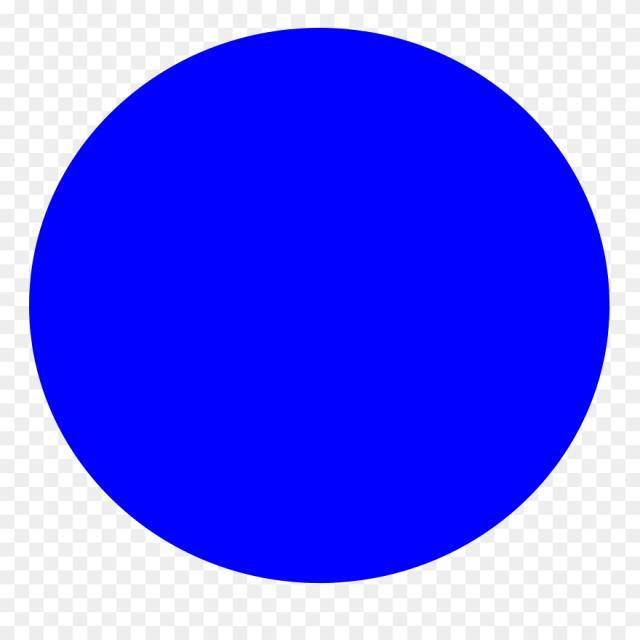Circle: (32, 26, 612, 584)
